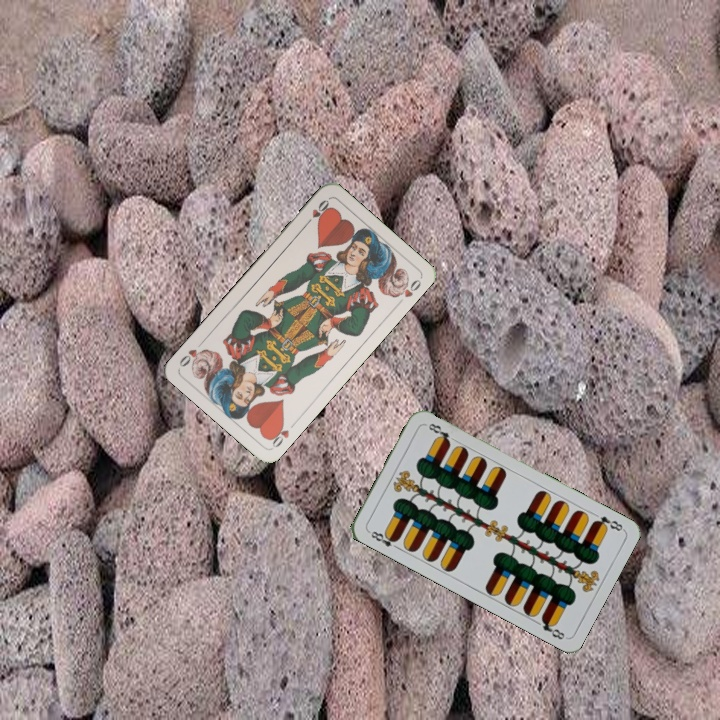E8: (364, 527, 402, 552), (589, 512, 625, 534)
HO: (265, 417, 299, 451), (301, 195, 332, 229)
